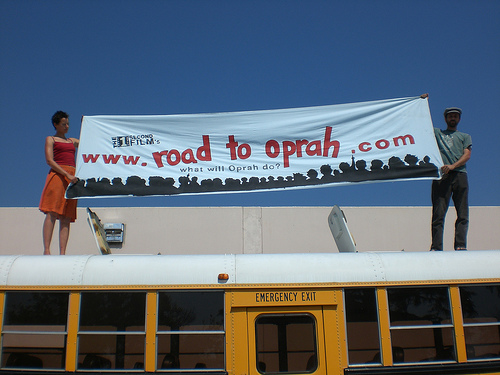without_mask: (440, 105, 464, 130), (50, 111, 72, 137)
